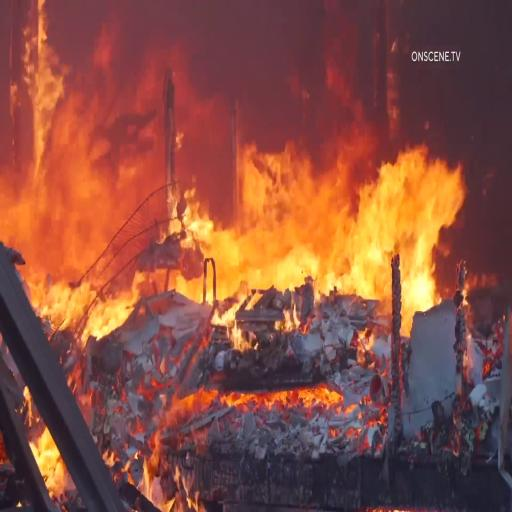fire: (346, 146, 466, 306), (246, 122, 356, 290)
